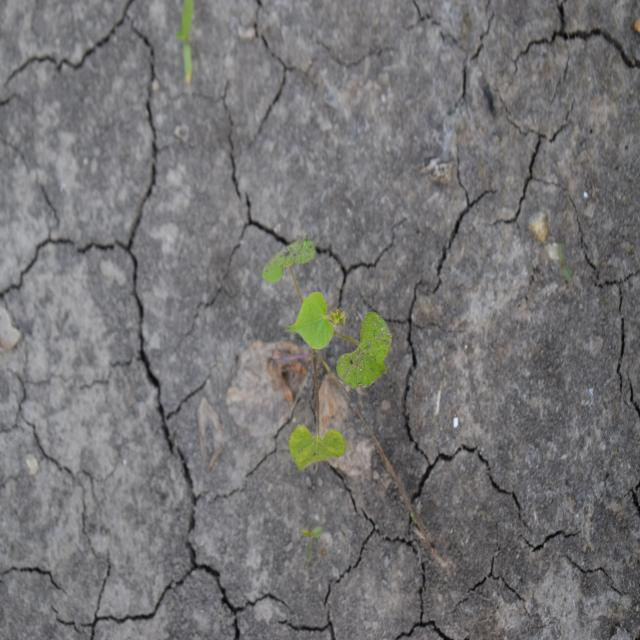MorningGlory: (260, 234, 394, 472)
